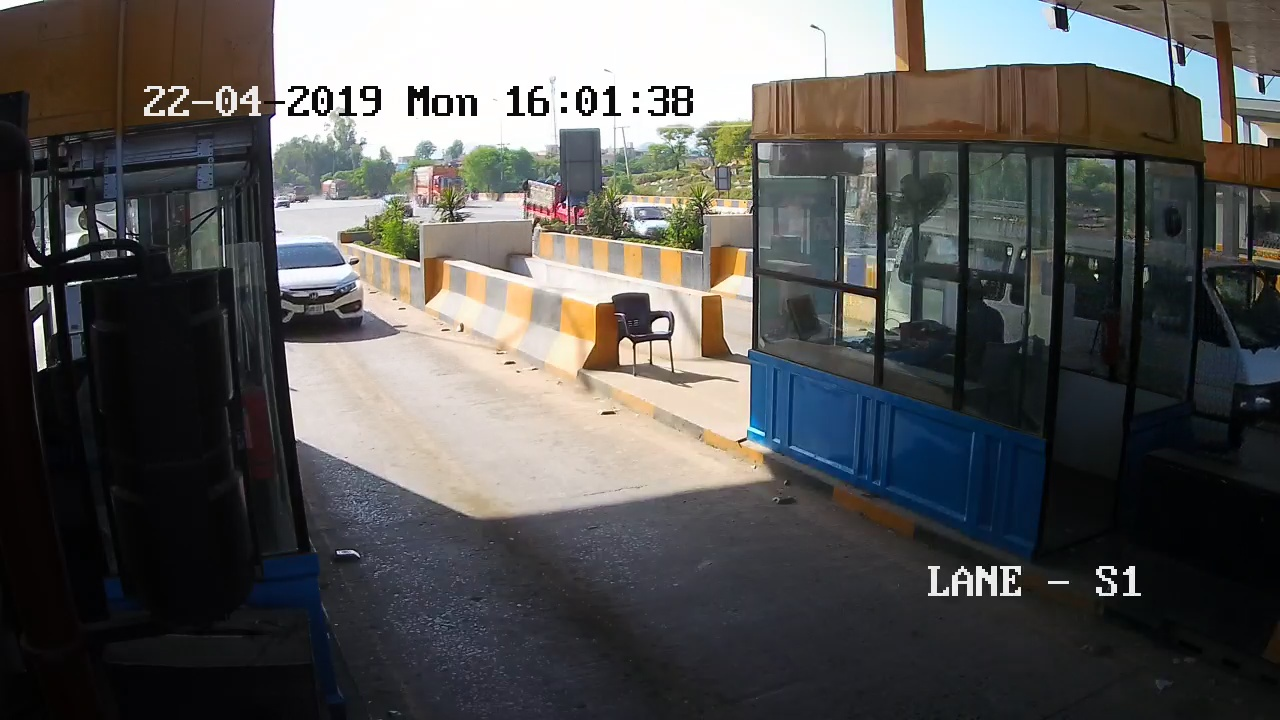car: (275, 235, 384, 346)
